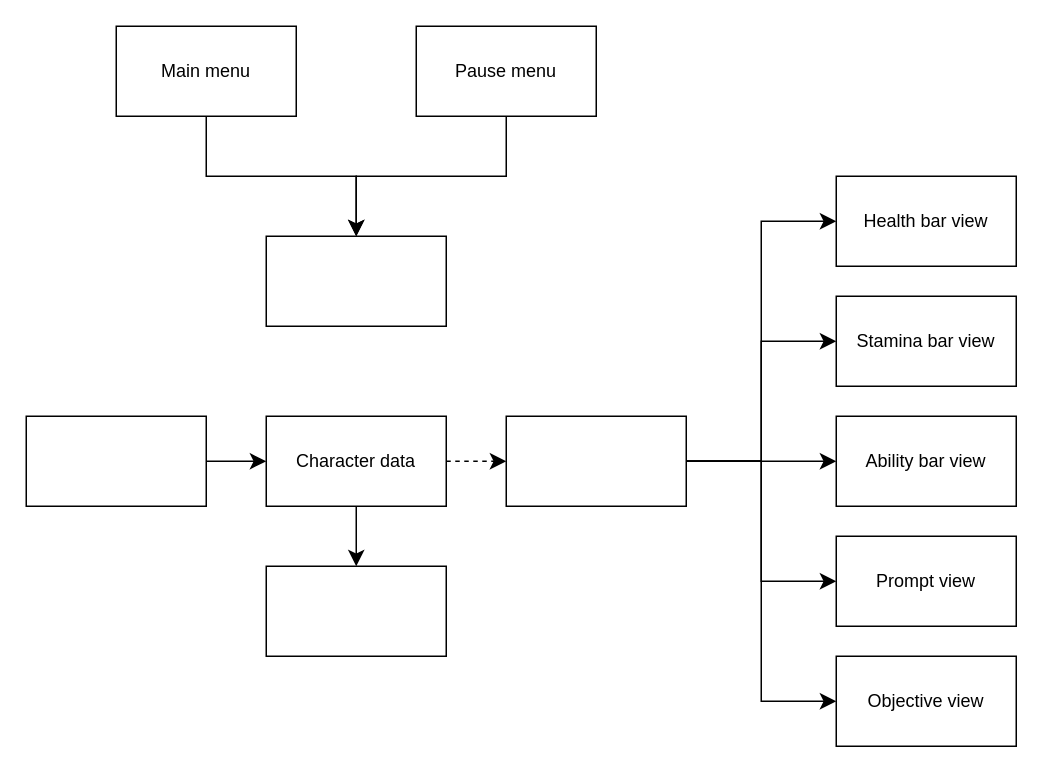
Image size: 1043x773. Some labels were removed from this diagram. Each missing label, with the centre of its shape:
Ability system: point 355,610
HUD controller: point 595,460
Player input handler: point 115,460
Settings: point 355,280
